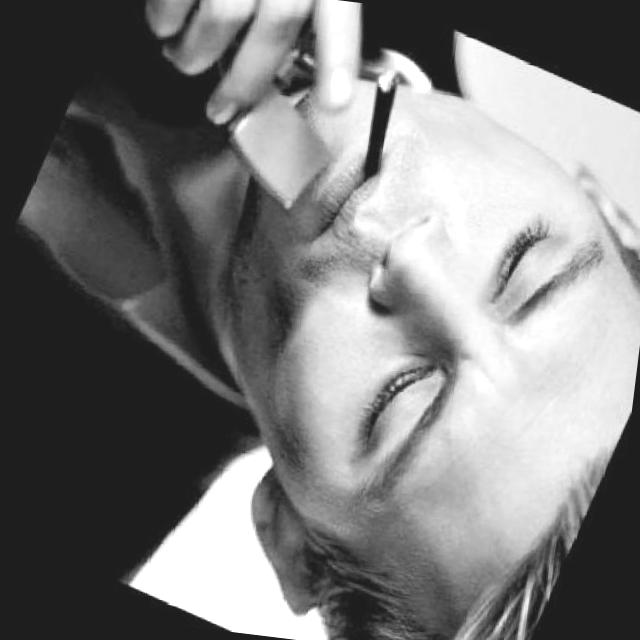cigarette: (327, 54, 424, 192)
